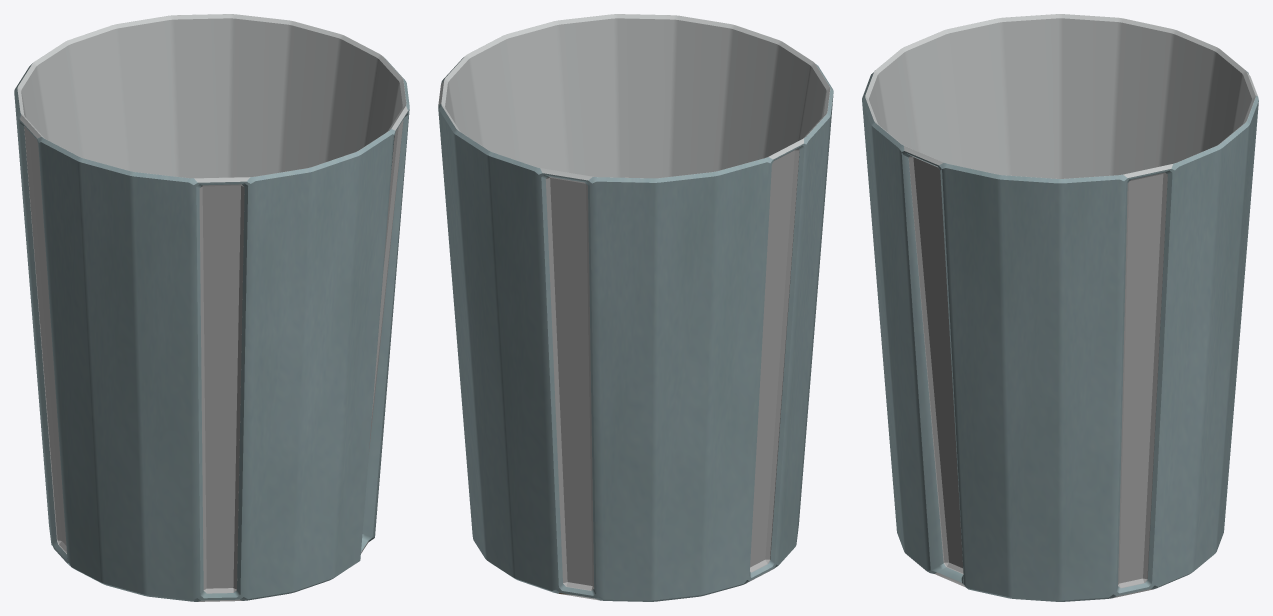
File: TrashBin.fbx
3 views of the same model, side by side, from view 1: azimuth 30°, elevation 25°; view 2: azimuth 150°, elevation 25°; view 3: azimuth 270°, elevation 25° (orthographic).
Visible parts, largest first — view 1: pCylinder1; view 2: pCylinder1; view 3: pCylinder1.
Boxes of the visible parts, x1=… form: pCylinder1: x1=14, y1=14, x2=409, y2=601; pCylinder1: x1=438, y1=14, x2=833, y2=601; pCylinder1: x1=862, y1=14, x2=1258, y2=601.
Bounding box in the file's own units: 23.65 × 28.78 × 23.65.
